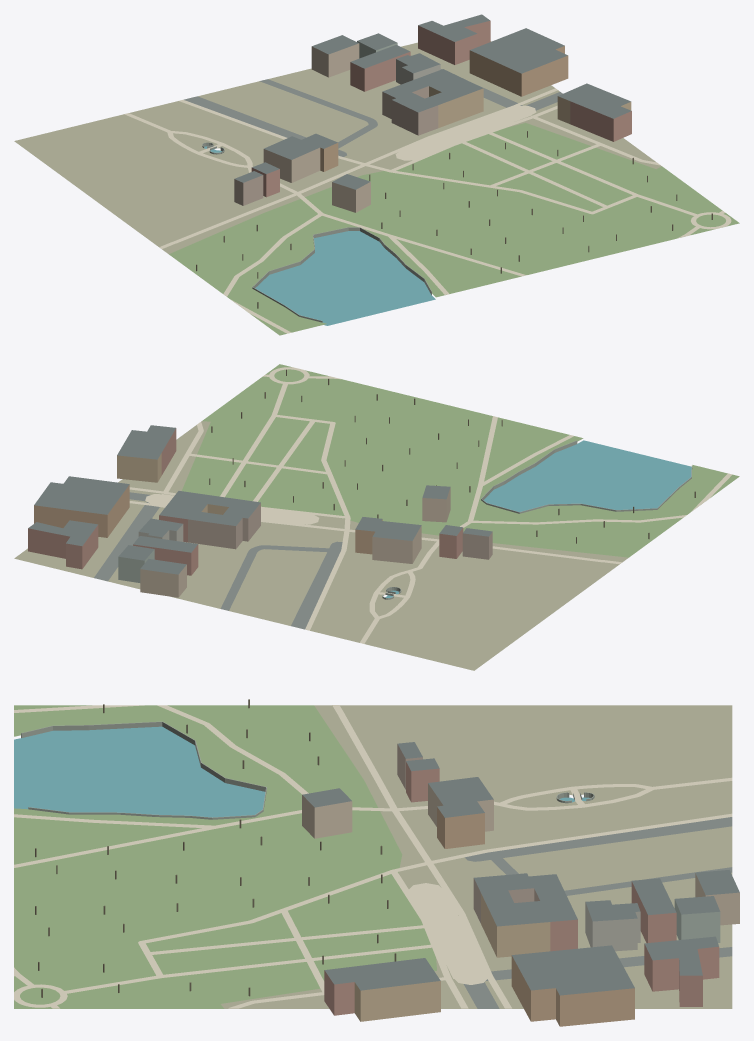
The model's file is sector--2_-2.glb.
3 renders of one model, top to bottom at view 1: azimuth 30°, elevation 25°; view 2: azimuth 150°, elevation 25°; view 3: azimuth 270°, elevation 25°, orthographic. The views are drawn at different scales.
Visible parts, largest first — view 1: -2:-2-park, -2:-2-ground, -2:-2-facade, -2:-2-paving, -2:-2-roof, -2:-2-water, -2:-2-road, -2:-2-bank; view 2: -2:-2-park, -2:-2-ground, -2:-2-facade, -2:-2-roof, -2:-2-water, -2:-2-paving, -2:-2-road, -2:-2-bank; view 3: -2:-2-park, -2:-2-ground, -2:-2-facade, -2:-2-roof, -2:-2-paving, -2:-2-water, -2:-2-road, -2:-2-bank, -2:-2-trunk.
Part boxes in pixels (left/top/right/bottom): -2:-2-park: left=169, top=122, right=739, bottom=335; -2:-2-ground: left=14, top=41, right=661, bottom=254; -2:-2-facade: left=234, top=20, right=631, bottom=212; -2:-2-paving: left=124, top=88, right=731, bottom=333; -2:-2-roof: left=234, top=14, right=631, bottom=189; -2:-2-water: left=204, top=146, right=435, bottom=325; -2:-2-road: left=184, top=55, right=562, bottom=156; -2:-2-bank: left=202, top=142, right=431, bottom=322; -2:-2-park: left=182, top=364, right=739, bottom=557; -2:-2-ground: left=14, top=421, right=628, bottom=670; -2:-2-facade: left=28, top=428, right=492, bottom=597; -2:-2-roof: left=28, top=425, right=492, bottom=574; -2:-2-water: left=385, top=440, right=691, bottom=597; -2:-2-paving: left=129, top=367, right=732, bottom=643; -2:-2-road: left=94, top=492, right=342, bottom=629; -2:-2-bank: left=382, top=440, right=692, bottom=599; -2:-2-park: left=14, top=705, right=436, bottom=1008; -2:-2-ground: left=221, top=705, right=732, bottom=1008; -2:-2-facade: left=302, top=744, right=739, bottom=1026; -2:-2-roof: left=302, top=742, right=739, bottom=995; -2:-2-paving: left=14, top=705, right=732, bottom=1008; -2:-2-water: left=14, top=726, right=589, bottom=817; -2:-2-road: left=463, top=817, right=732, bottom=1008; -2:-2-bank: left=21, top=721, right=594, bottom=819; -2:-2-trunk: left=35, top=699, right=396, bottom=997.
Bounding box in the file's own units: 212 × 10.45 × 202.
